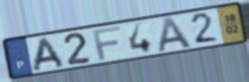2: (63, 31, 94, 67), (190, 11, 220, 48)
4: (129, 21, 156, 55)
A: (156, 15, 194, 54), (31, 36, 67, 73)
F: (91, 25, 122, 61)
